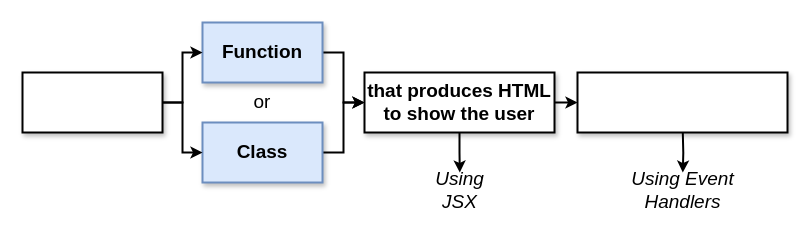
This 811x230 diagram has some shape labels left out. The centre of each missing label's shape, as x and y in pixels:
A component is a: (93,103)
and handles feedback from the user: (683,103)
